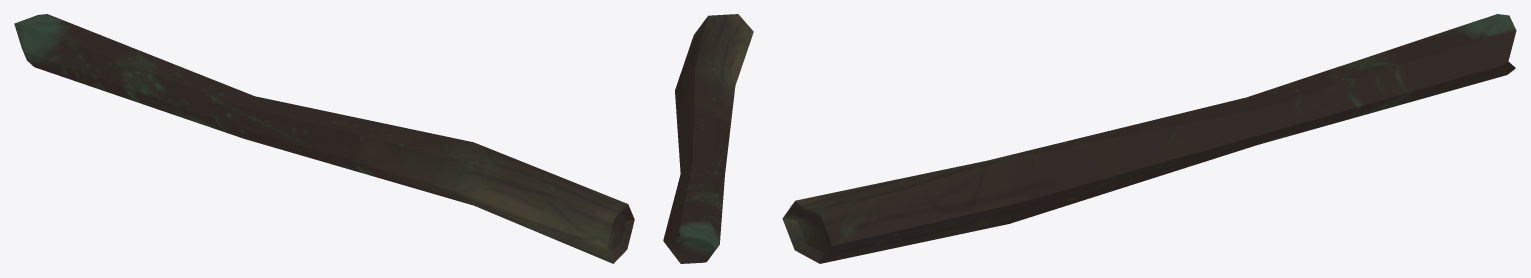
Rendered from polysurface178_lambert6_0_lev2.glb.
3 renders of one model, left to right at view 1: azimuth 30°, elevation 25°; view 2: azimuth 150°, elevation 25°; view 3: azimuth 270°, elevation 25°, orthographic. The views are drawn at different scales.
Parts seen in each view (by area): view 1: polysurface178_lambert6_0_lev2; view 2: polysurface178_lambert6_0_lev2; view 3: polysurface178_lambert6_0_lev2.
Boxes of the visible parts, bbox=[...] form: polysurface178_lambert6_0_lev2: bbox=[14, 14, 634, 263]; polysurface178_lambert6_0_lev2: bbox=[663, 14, 753, 263]; polysurface178_lambert6_0_lev2: bbox=[782, 14, 1516, 263].
Size of the model in its own units: 0.8955 by 0.2051 by 1.6.
Materials: 1 (1 with a texture image).
